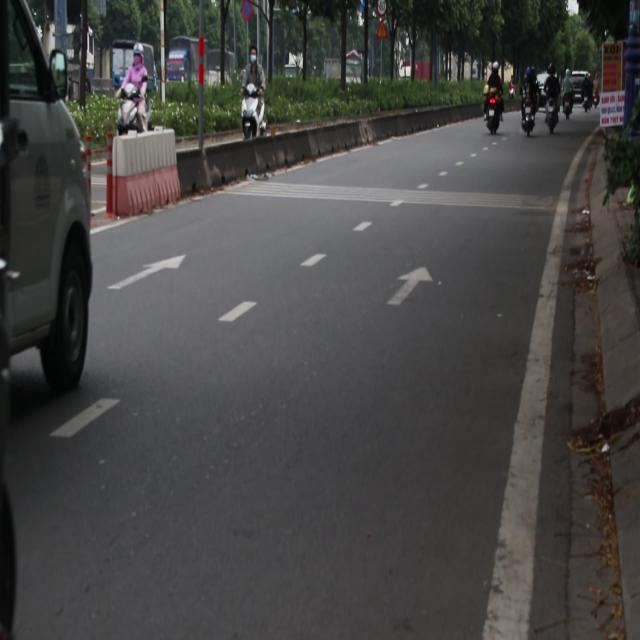car: (2, 0, 95, 433), (571, 73, 593, 110), (532, 64, 554, 100)
motorbike: (116, 83, 150, 135), (239, 88, 263, 145), (481, 83, 500, 145), (525, 93, 539, 144), (546, 85, 557, 138), (582, 82, 594, 114), (564, 87, 570, 120)
truck: (167, 38, 241, 88), (105, 40, 161, 100)
